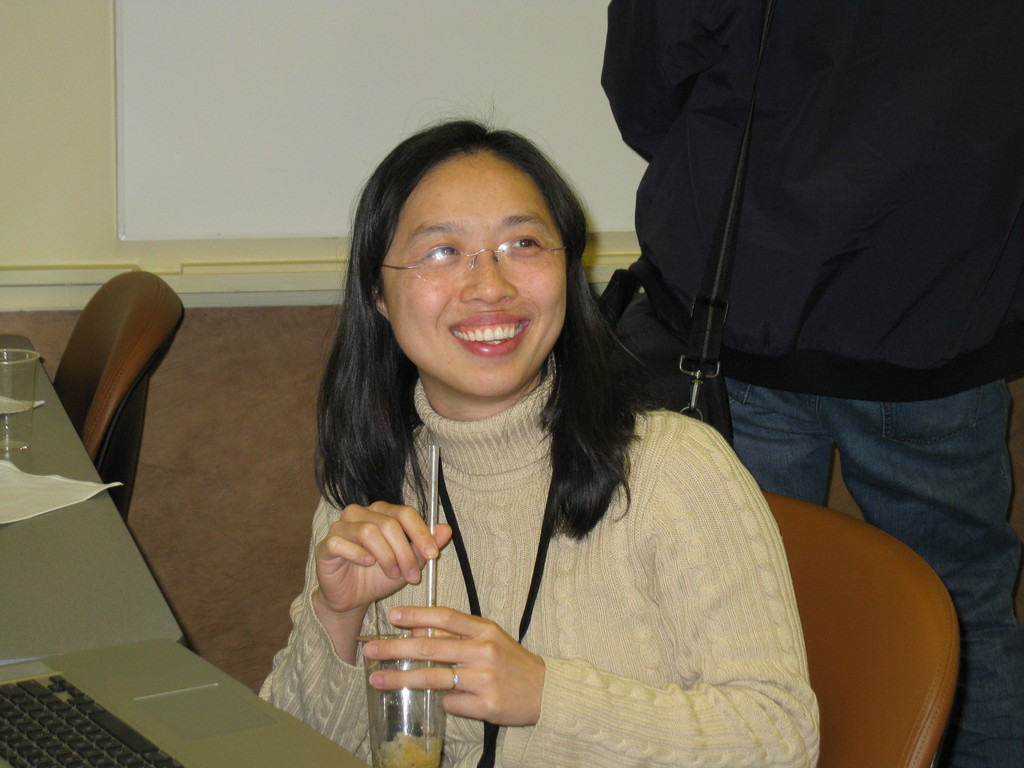Human_hand: (371, 605, 556, 735), (312, 499, 453, 611)
